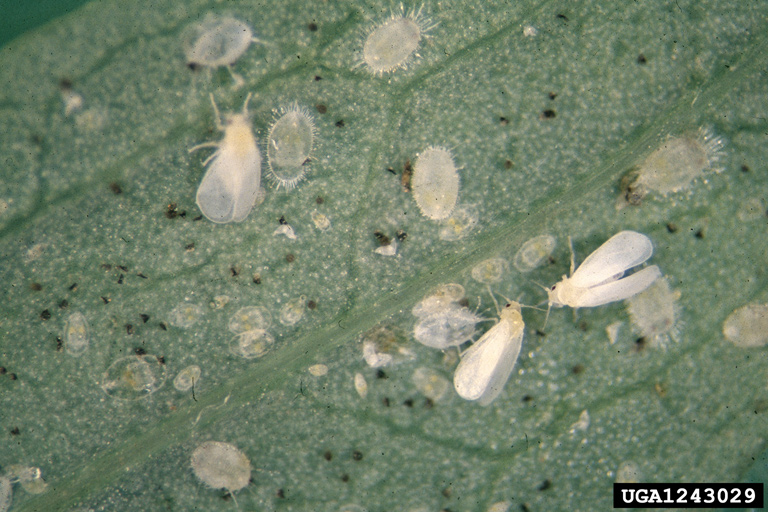whitefly: (533, 229, 662, 327), (189, 95, 262, 224), (455, 284, 526, 407)
